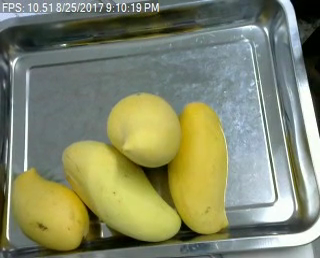Mango: (55, 134, 185, 243), (167, 103, 232, 235), (11, 168, 92, 252), (106, 90, 182, 171)
